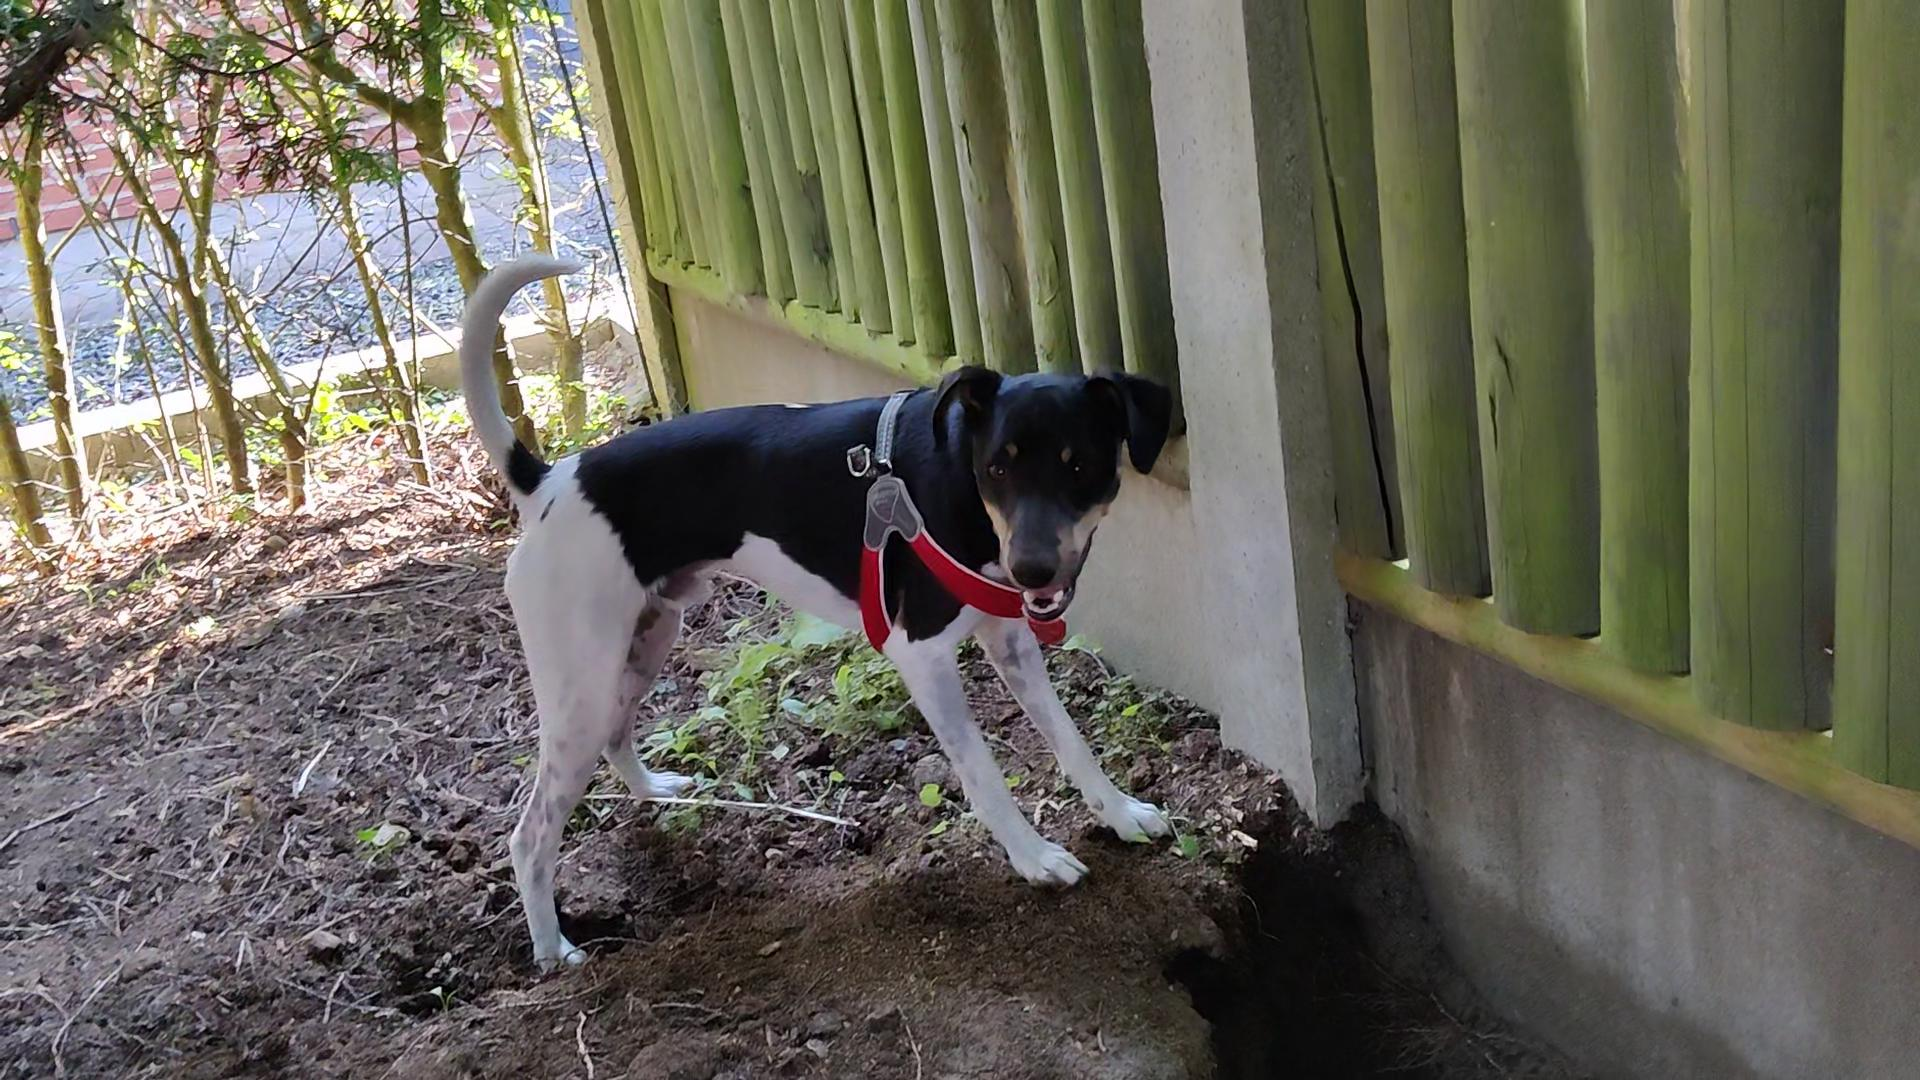Dog: (440, 232, 1203, 990)
